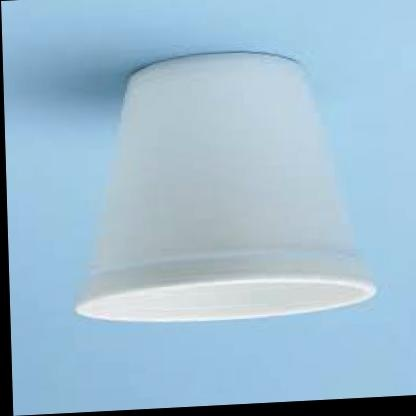trash: (76, 53, 375, 321)
